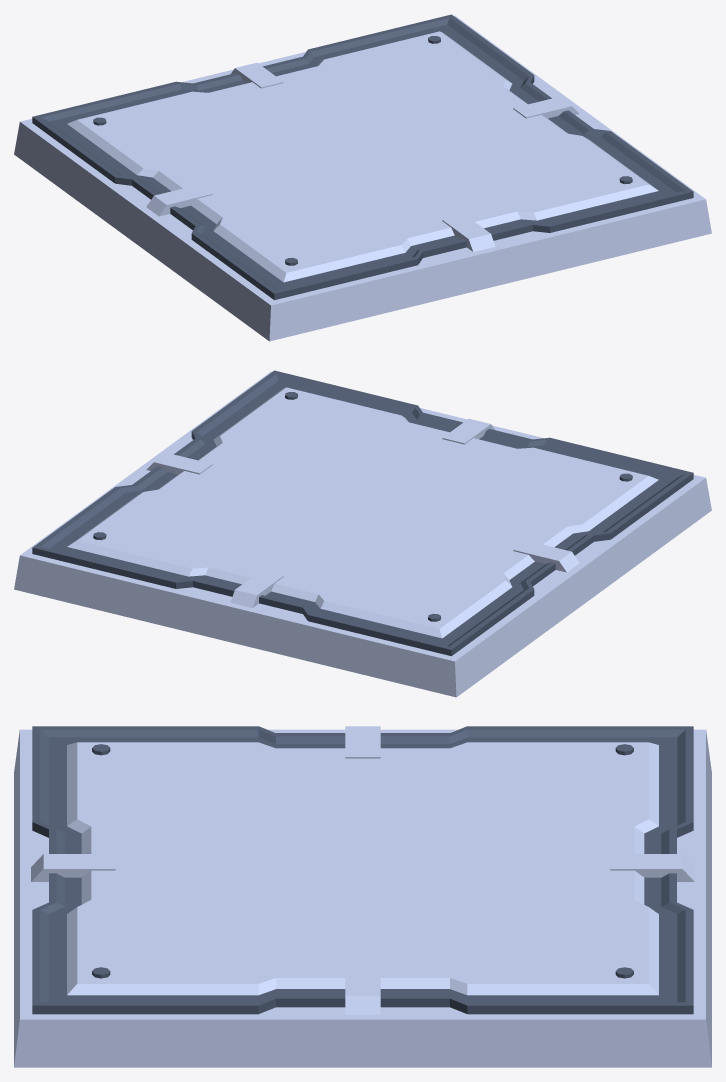
Rendered from Floor_Scifi.fbx.
The picture shows the model from 3 angles, top to bottom: view 1: azimuth 30°, elevation 25°; view 2: azimuth 150°, elevation 25°; view 3: azimuth 270°, elevation 25°; orthographic projection. The views are drawn at different scales.
Visible parts, largest first — view 1: Floor_Scifi; view 2: Floor_Scifi; view 3: Floor_Scifi.
Part boxes in pixels (bbox=[...]): Floor_Scifi: bbox=[14, 14, 711, 341]; Floor_Scifi: bbox=[14, 370, 711, 697]; Floor_Scifi: bbox=[14, 726, 711, 1067].
Bounding box in the file's own units: 200 × 19.23 × 200.
